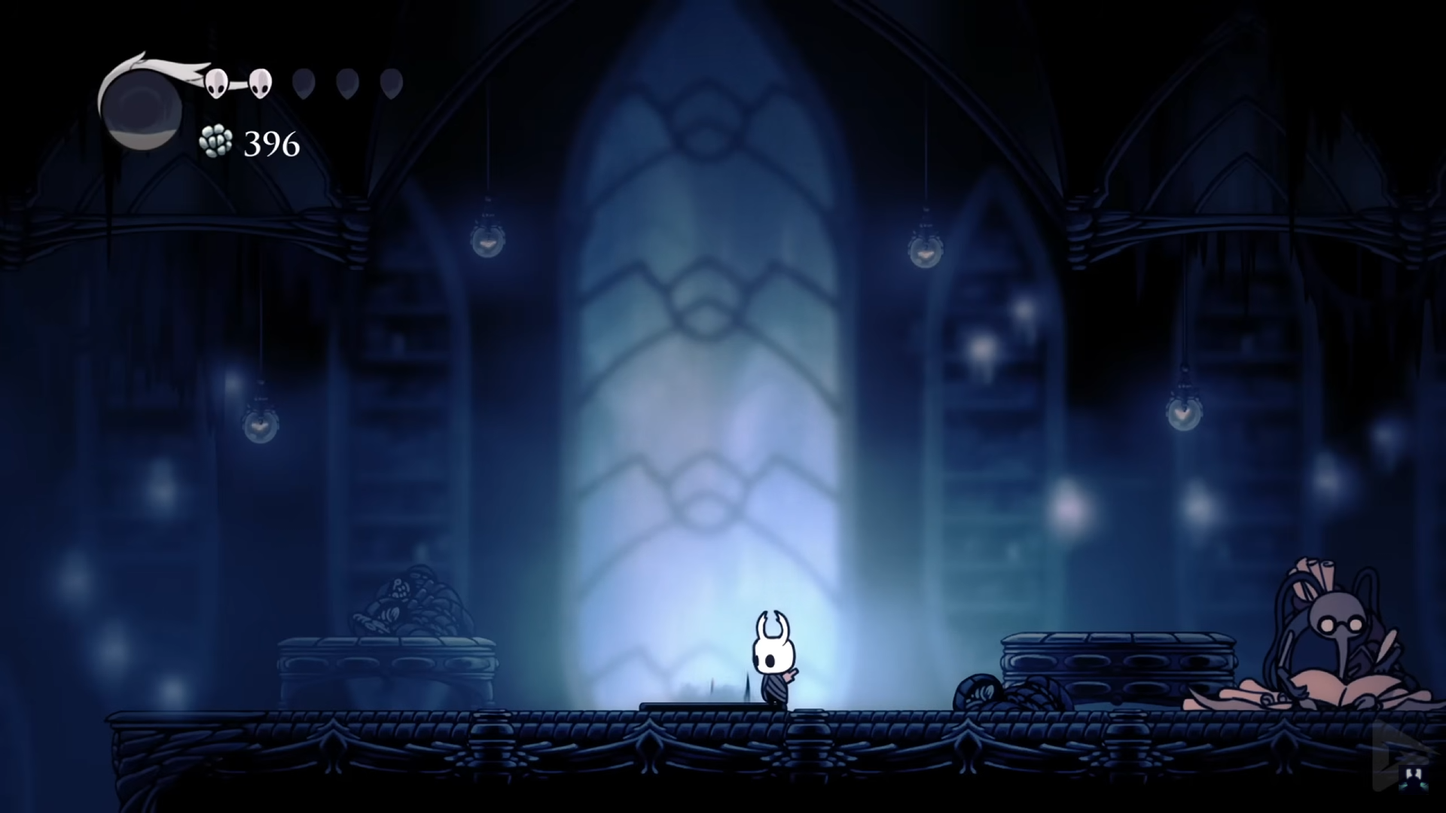HK: (745, 610, 805, 705)
